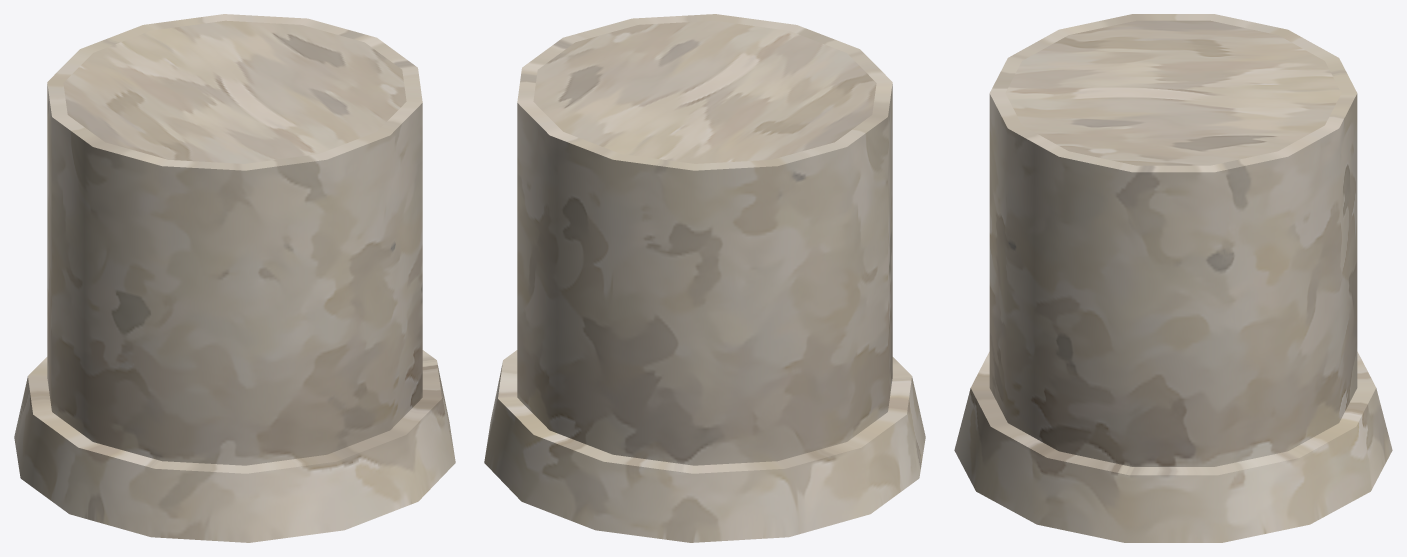
File: kolumna_1_podstawa.obj
3 renders of one model, left to right at view 1: azimuth 30°, elevation 25°; view 2: azimuth 150°, elevation 25°; view 3: azimuth 270°, elevation 25°, orthographic.
Visible parts, largest first — view 1: Cylinder.014; view 2: Cylinder.014; view 3: Cylinder.014.
Boxes of the visible parts, box(x1,y1,x2,y2) form: Cylinder.014: box(14, 14, 455, 542); Cylinder.014: box(484, 14, 925, 542); Cylinder.014: box(954, 14, 1392, 542).
Bounding box in the file's own units: 6.2 × 5.58 × 6.2.
1 material, 1 textured.
